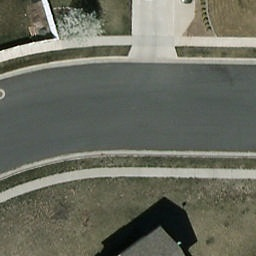car: (182, 0, 199, 4)
